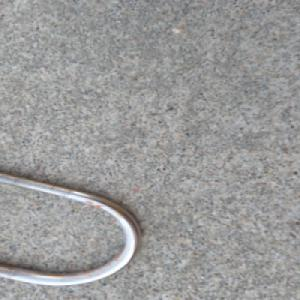ClampPart: (0, 170, 147, 287)
